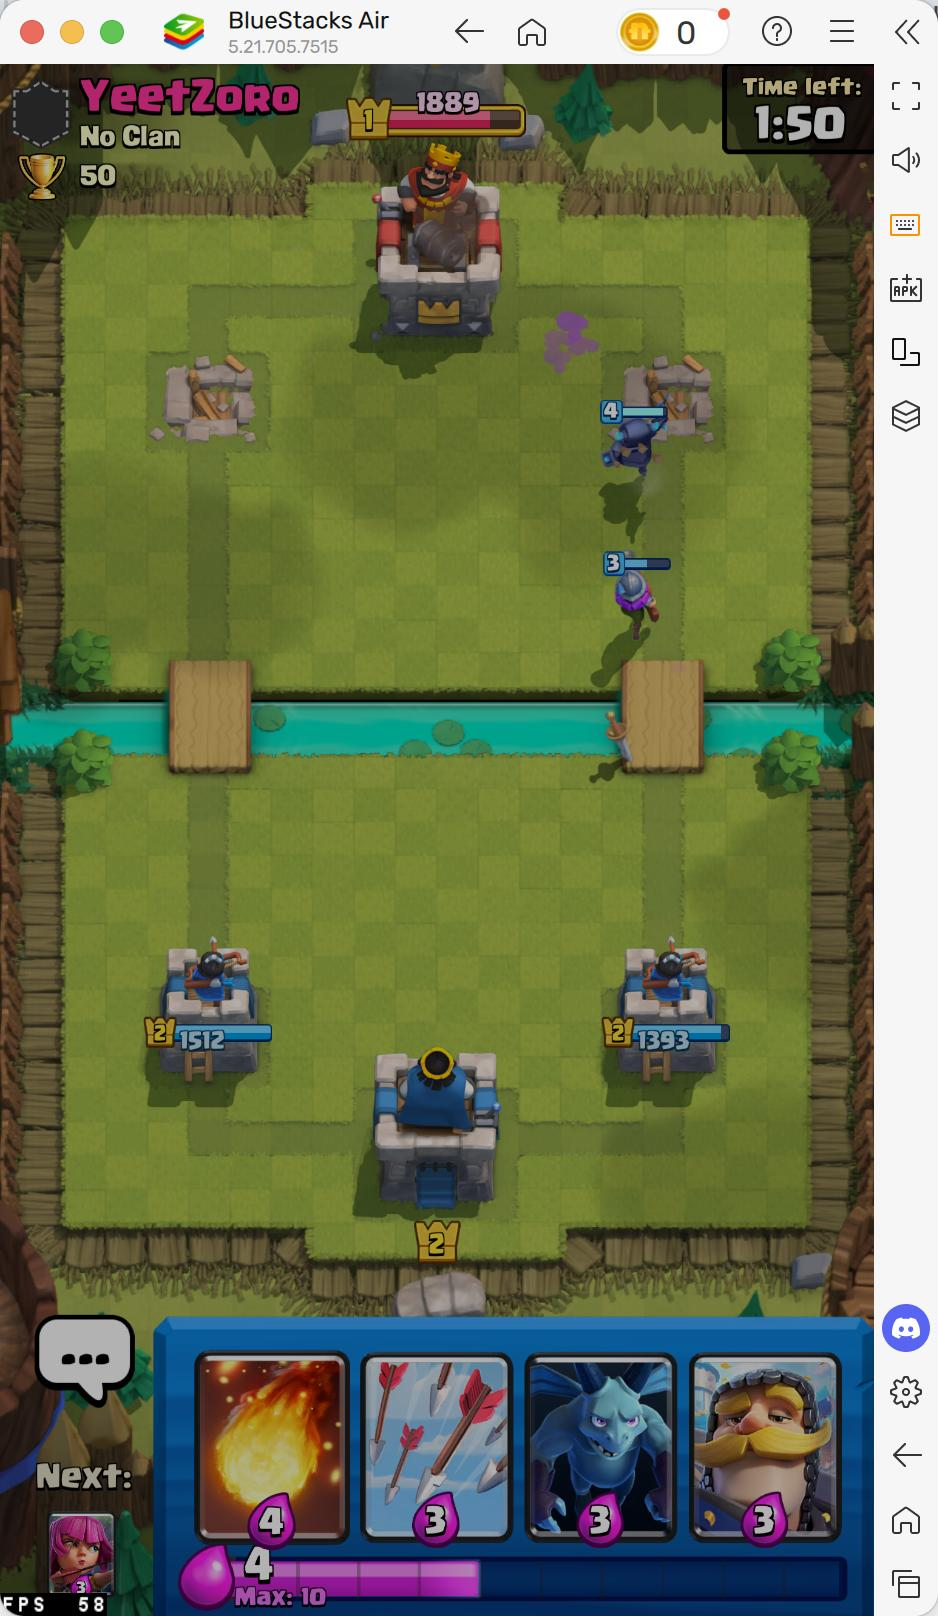0: (811, 104, 846, 143)
1: (752, 102, 773, 144), (415, 89, 428, 115), (179, 1028, 190, 1051), (201, 1029, 211, 1052), (636, 1029, 647, 1050)
14: (156, 945, 266, 1078), (614, 943, 720, 1076)
2: (210, 1029, 226, 1051)
3: (748, 1500, 779, 1539), (585, 1501, 616, 1539), (421, 1501, 451, 1538), (645, 1029, 661, 1052), (674, 1029, 690, 1052), (73, 1578, 89, 1597)
4: (241, 1541, 279, 1587), (257, 1500, 288, 1540)
5: (785, 103, 813, 144), (188, 1029, 202, 1052)
Enemy Tower: (462, 89, 481, 116), (660, 1029, 676, 1051)
Friendly Winner: (425, 89, 446, 115), (443, 89, 463, 115)
